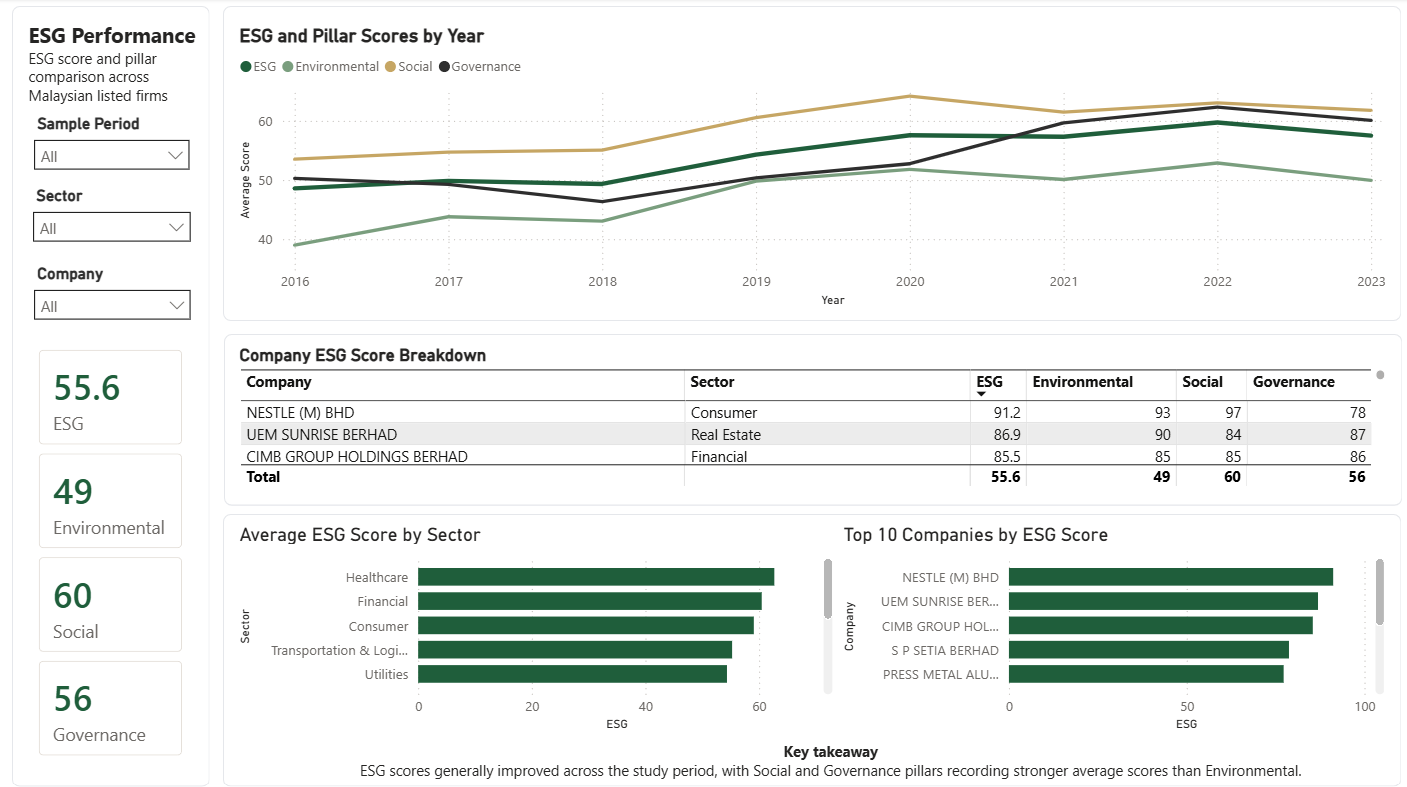

The page's visual inventory and layout, read from the dashboard file:
{"tool":"powerbi","page":{"name":"ESG Performance","canvas":[1280,720],"ordinal":1},"visuals":[{"type":"shape","box":[12.9,7.5,179.3,708.7],"z":0},{"type":"textbox","box":[22.6,15,162.1,93.4],"z":1000},{"type":"slicer","fields":{"Values":["Regression_Results.SamplePeriod"]},"box":[22.8,100.4,160.9,87.8],"z":2000},{"type":"slicer","fields":{"Values":["Industry_Dimension.SectorCategory"]},"box":[22.1,165.9,162.6,70.8],"z":3000},{"type":"cardVisual","fields":{"Data":["FirmYear_Data.Average ESG","FirmYear_Data.Average Environmental","FirmYear_Data.Average Social","FirmYear_Data.Average Governance"]},"box":[19.9,302,164.8,404.9],"z":4000},{"type":"slicer","fields":{"Values":["FirmYear_Data.CompanyName"]},"box":[22.6,236.2,162.1,56.9],"z":5000},{"type":"shape","box":[204,7.5,1068.5,285.6],"z":7000},{"type":"shape","box":[204,468.2,1068.5,248.1],"z":10000},{"type":"lineChart","title":"ESG and Pillar Scores by Year","fields":{"Y":["FirmYear_Data.Average ESG","FirmYear_Data.Average Environmental","FirmYear_Data.Average Social","FirmYear_Data.Average Governance"],"Category":["Year_Dimension.Year"]},"box":[213.7,23.6,1049.1,260.9],"z":11000},{"type":"shape","box":[205.1,305,1068.5,155.7],"z":12000},{"type":"clusteredBarChart","title":"Average ESG Score by Sector","fields":{"Category":["Industry_Dimension.SectorCategory"],"Y":["FirmYear_Data.Average ESG"]},"box":[213.7,475.7,547.7,193.3],"z":13000},{"type":"clusteredBarChart","title":"Top 10 Companies by ESG Score","fields":{"Category":["Firm_Dimension.CompanyName"],"Y":["FirmYear_Data.Average ESG"]},"box":[761.3,475.7,500.4,193.3],"z":14000},{"type":"tableEx","title":"Company ESG Score Breakdown","fields":{"Values":["Firm_Dimension.CompanyName","Industry_Dimension.SectorCategory","FirmYear_Data.Average ESG","FirmYear_Data.Average Environmental","FirmYear_Data.Average Social","FirmYear_Data.Average Governance"]},"box":[213.7,313.6,1049.1,134.2],"z":15000},{"type":"textbox","box":[237.3,669,1035.2,47.2],"z":16000}]}

Visuals, with their boxes in screenshot pixels (x1, y1, x2, y2), scaled from the page's 1280x720 canvas onto the 1407x787 screenshot:
shape: bbox=[14, 8, 211, 783]
textbox: bbox=[25, 16, 203, 118]
slicer - Regression_Results.SamplePeriod: bbox=[25, 110, 202, 206]
slicer - Industry_Dimension.SectorCategory: bbox=[24, 181, 203, 259]
cardVisual - FirmYear_Data.Average ESG x FirmYear_Data.Average Environmental: bbox=[22, 330, 203, 773]
slicer - FirmYear_Data.CompanyName: bbox=[25, 258, 203, 320]
shape: bbox=[224, 8, 1399, 320]
shape: bbox=[224, 512, 1399, 783]
"ESG and Pillar Scores by Year" lineChart: bbox=[235, 26, 1388, 311]
shape: bbox=[225, 333, 1400, 504]
"Average ESG Score by Sector" clusteredBarChart: bbox=[235, 520, 837, 731]
"Top 10 Companies by ESG Score" clusteredBarChart: bbox=[837, 520, 1387, 731]
"Company ESG Score Breakdown" tableEx: bbox=[235, 343, 1388, 489]
textbox: bbox=[261, 731, 1399, 783]
